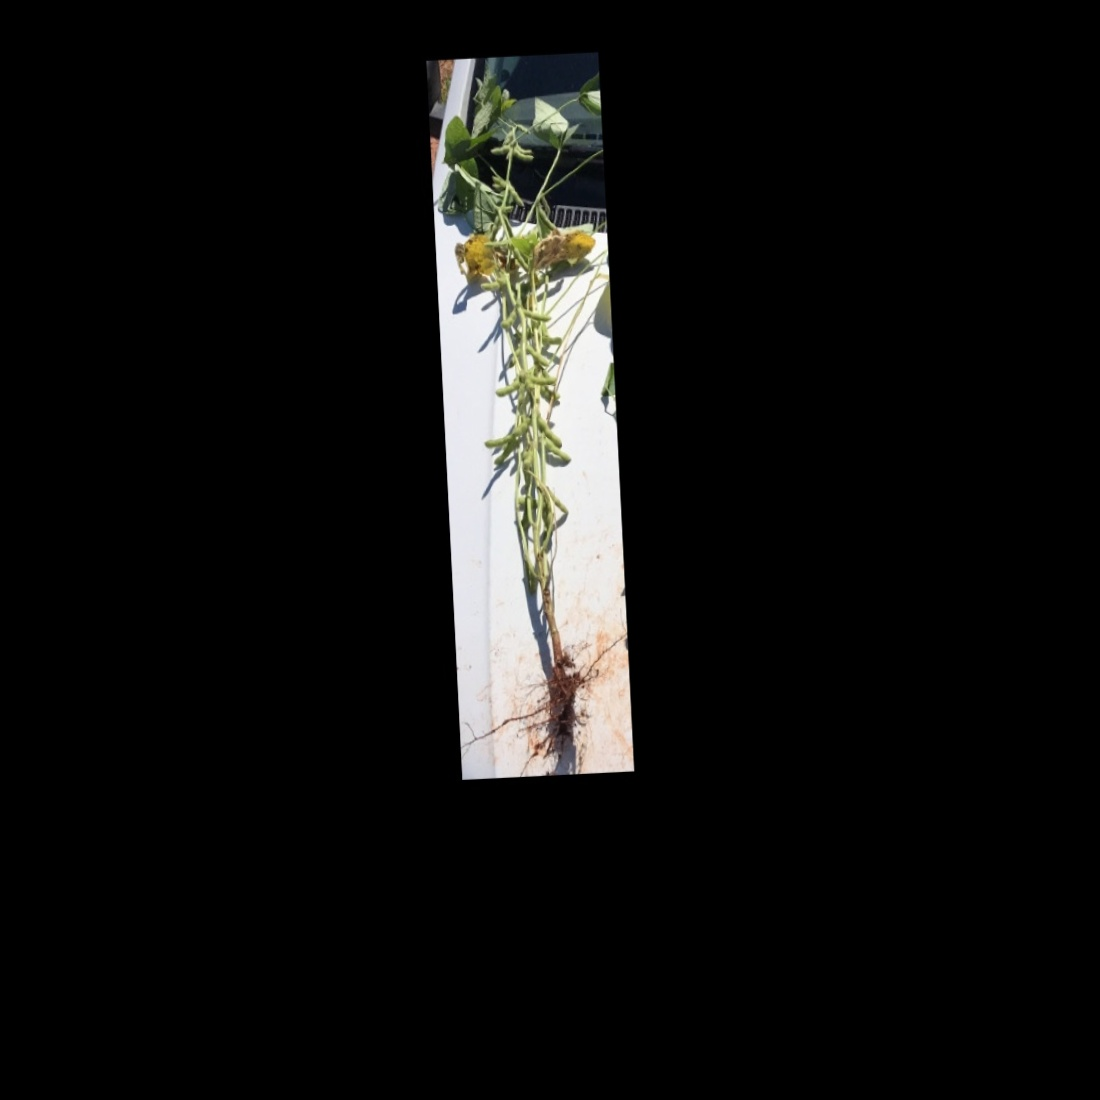pod: (535, 412, 563, 450), (508, 411, 536, 442), (483, 428, 520, 451), (491, 374, 525, 398), (544, 439, 572, 467), (547, 483, 570, 516), (523, 341, 552, 368), (498, 304, 522, 333), (521, 306, 553, 324), (529, 370, 559, 388), (477, 278, 507, 295), (509, 185, 526, 210)
soy: (439, 75, 626, 755)
